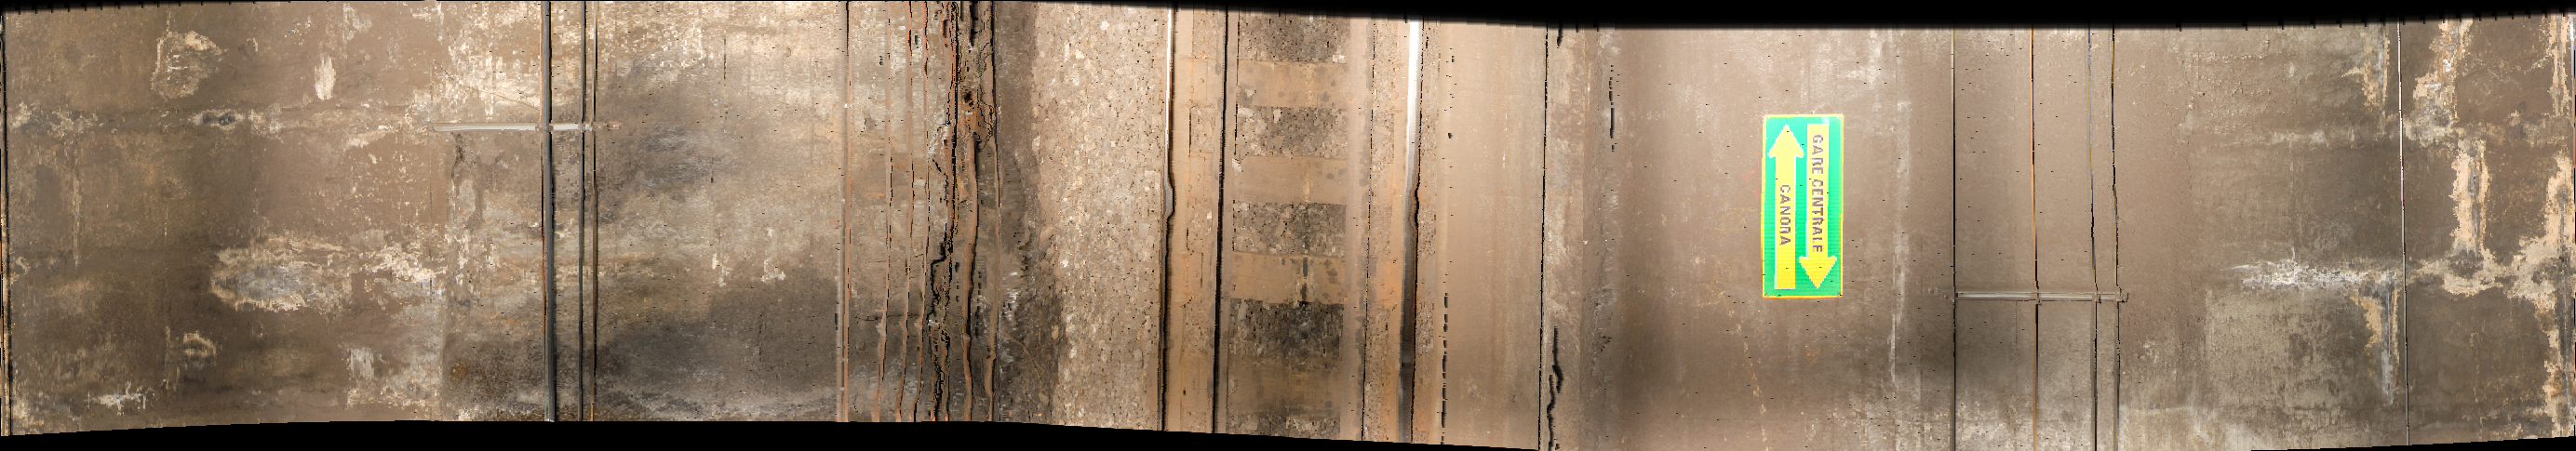pipes: (835, 8, 1015, 451), (2021, 25, 2132, 451), (537, 2, 598, 435), (1940, 25, 1968, 451)
sign: (1759, 108, 1843, 303)
tracks: (1158, 11, 1426, 451)
